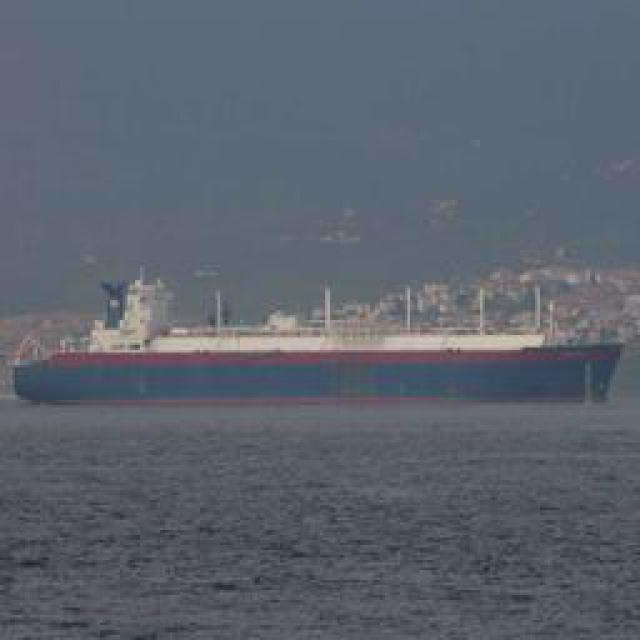Ship: (16, 338, 629, 403)
